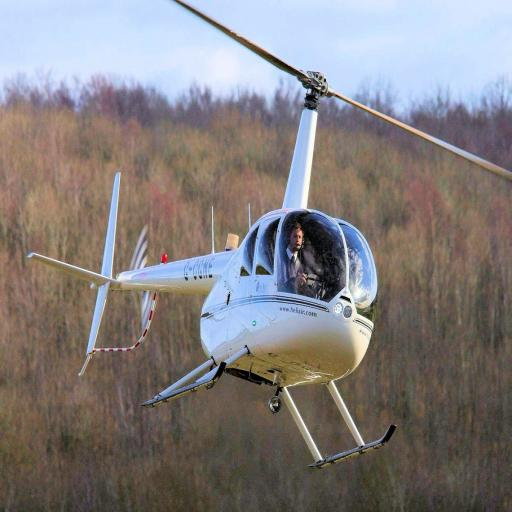helicopter: (27, 2, 512, 475)
